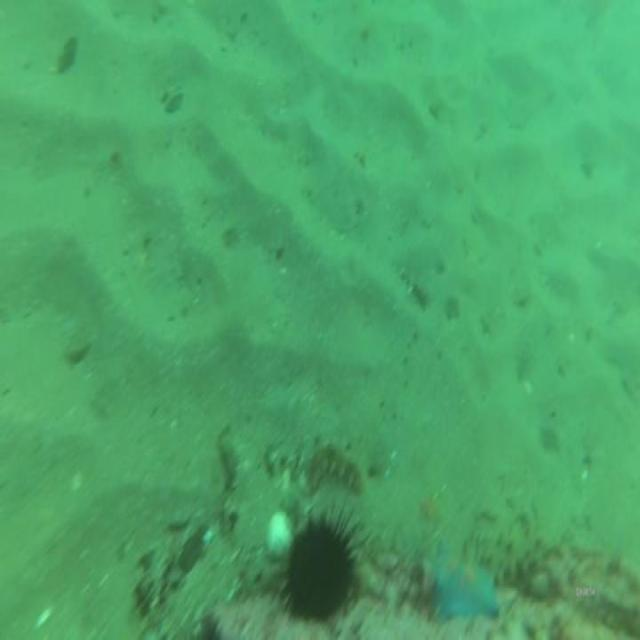echinus: (280, 500, 366, 628)
holothurian: (297, 436, 365, 496), (479, 526, 543, 585)
starfish: (426, 537, 505, 626)
